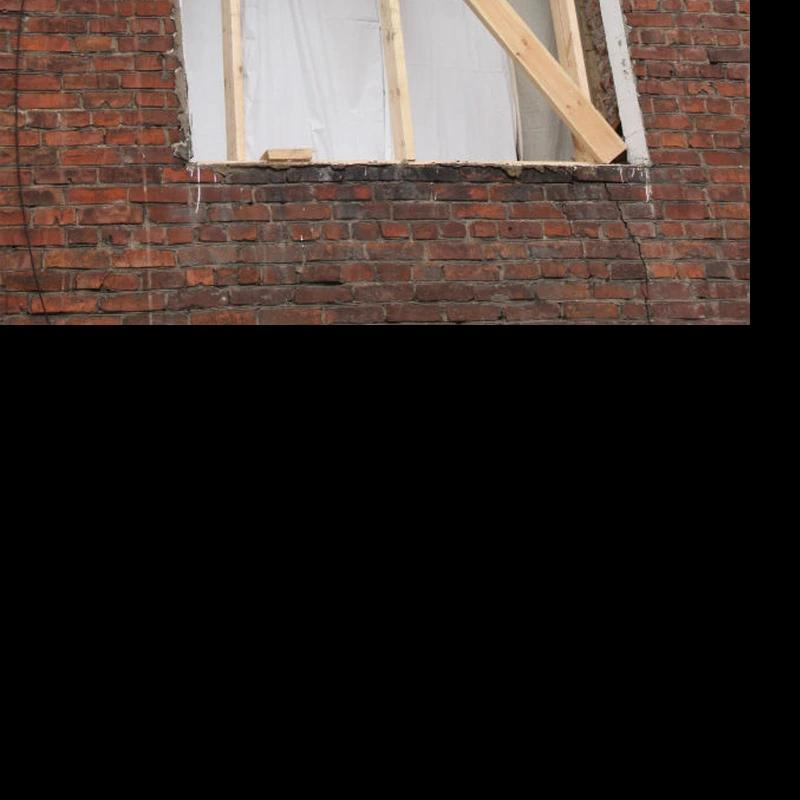crack: (603, 181, 652, 328)
